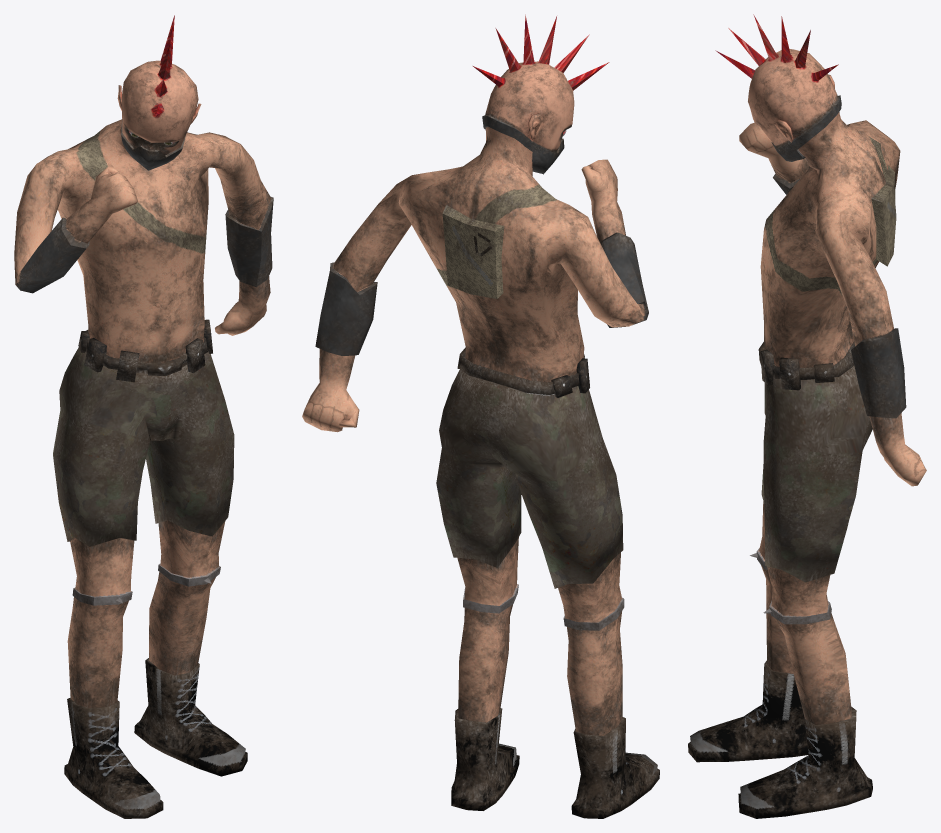
File: Anim_perder_1_npc2.0035.obj
The picture shows the model from 3 angles, left to right: view 1: azimuth 30°, elevation 25°; view 2: azimuth 150°, elevation 25°; view 3: azimuth 270°, elevation 25°; orthographic projection. The views are drawn at different scales.
Visible parts, largest first — view 1: polySurface1; view 2: polySurface1; view 3: polySurface1.
Boxes of the visible parts, x1=… form: polySurface1: x1=14, y1=15, x2=273, y2=818; polySurface1: x1=302, y1=14, x2=659, y2=818; polySurface1: x1=688, y1=14, x2=926, y2=818.
Size of the model in its own units: 3.99 by 9.91 by 2.78.
